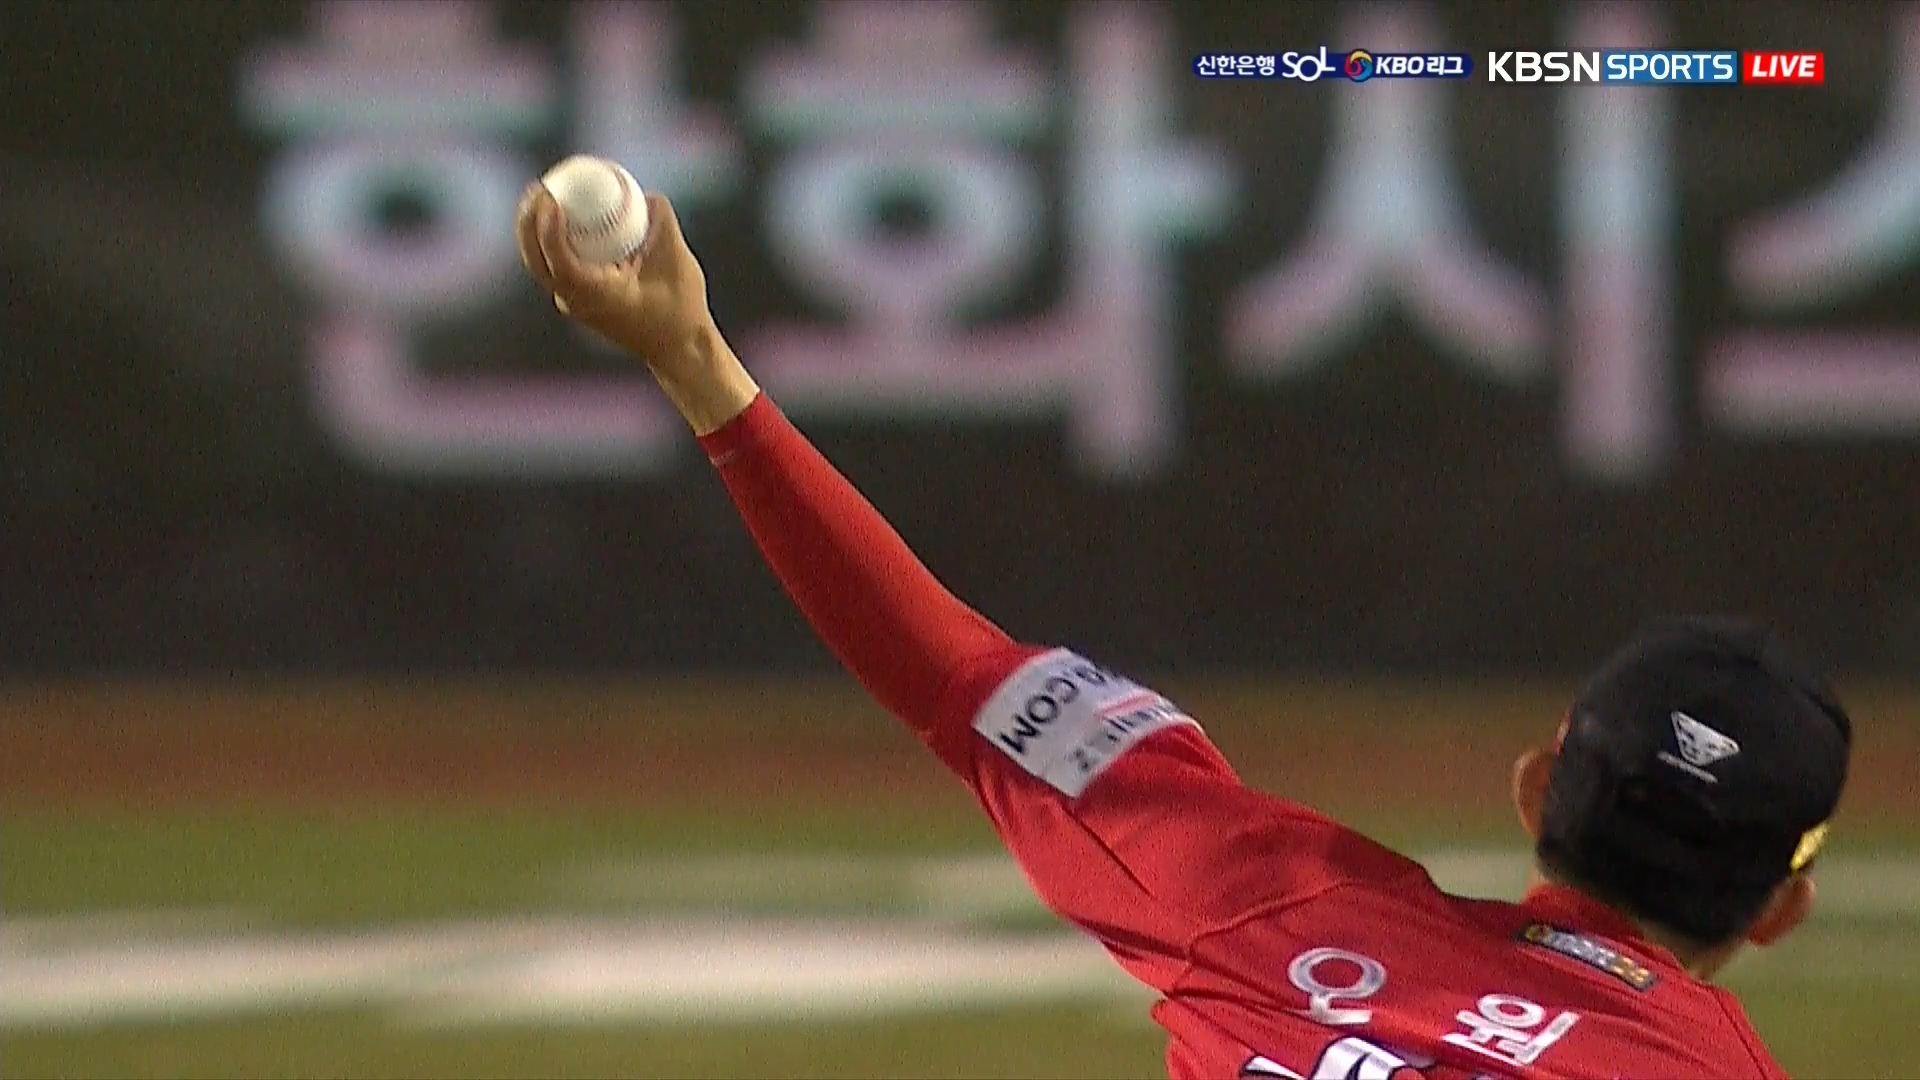zoomin_hand: (497, 141, 978, 752)
